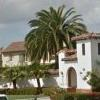Tree: (15, 5, 90, 75)
